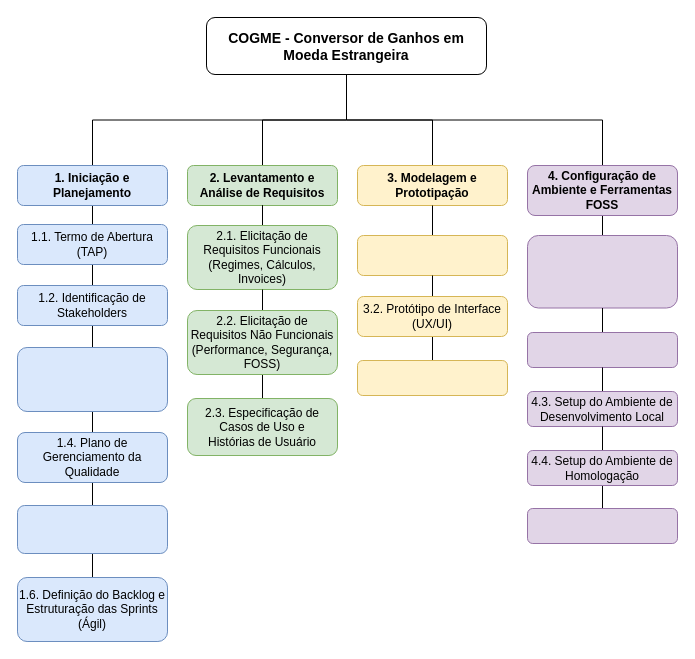
The diagram is 695 pixels wide and 659 high, and some of its shapes have lost their labels. Each missing label, with the centre of its shape:
"1.3. Planos de Gerenciamento (Escopo, Cronograma, Custo, Riscos)" goes at point 92,379.
"1.5. Política de Licenciamento FOSS" goes at point 92,529.
"3.1. Arquitetura da Solução (Frontend/Backend/API)" goes at point 432,255.
"3.3. Modelagem de Dados" goes at point 432,378.
"4.1. Seleção e Validação da Stack (Linguagens, Frameworks, Bancos)" goes at point 602,271.
"4.2. Configuração do Repositório Git" goes at point 602,350.
"4.5. Auditoria de Licenças das Dependências" goes at point 602,526.
